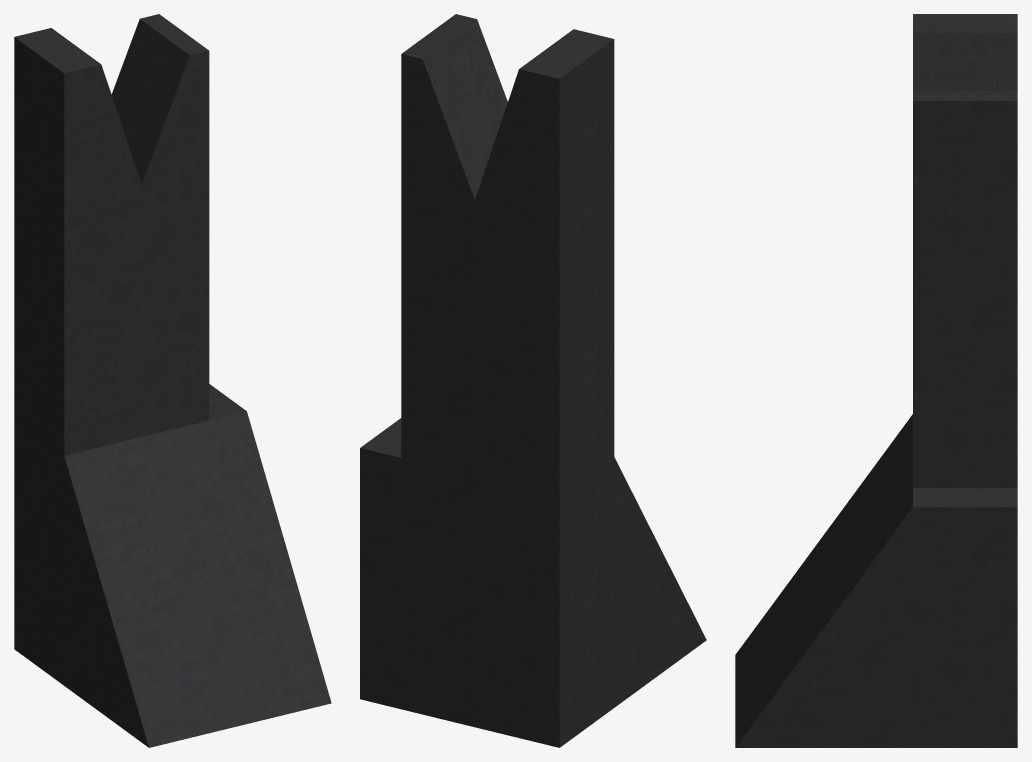
Rendered from dama_cerna.glb.
The picture shows the model from 3 angles, left to right: view 1: azimuth 30°, elevation 25°; view 2: azimuth 150°, elevation 25°; view 3: azimuth 270°, elevation 25°; orthographic projection. The views are drawn at different scales.
Visible parts, largest first — view 1: dama_cerna; view 2: dama_cerna; view 3: dama_cerna.
Part boxes in pixels (x1,y1,x2,y2): dama_cerna: [14, 14, 331, 747]; dama_cerna: [360, 14, 706, 747]; dama_cerna: [735, 14, 1017, 747].
Bounding box in the file's own units: 0.03 × 0.0961 × 0.0384.
1 material, 1 textured.
